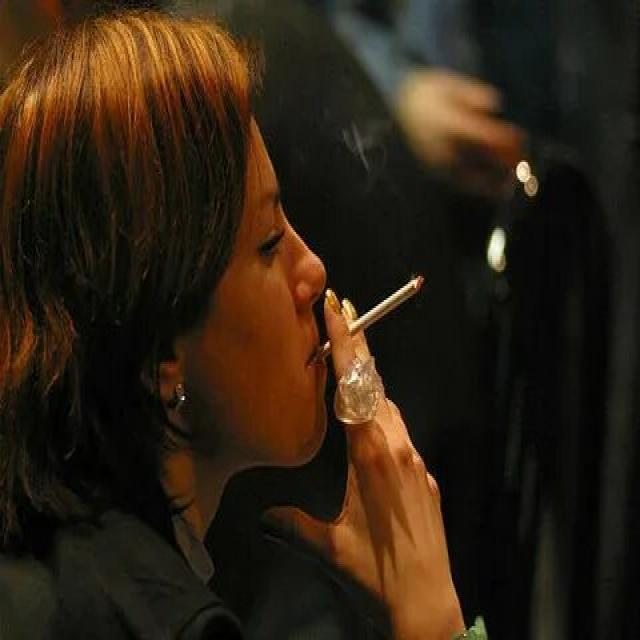cigarette: (311, 272, 429, 366)
